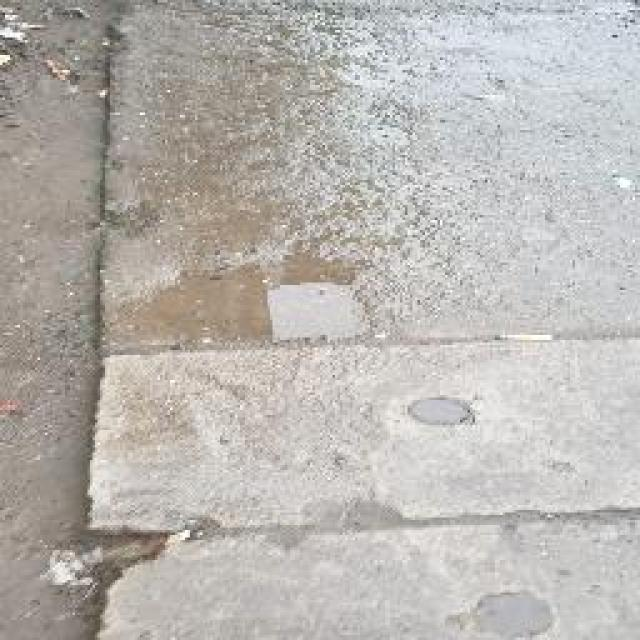waterlogging: (122, 257, 393, 350)
